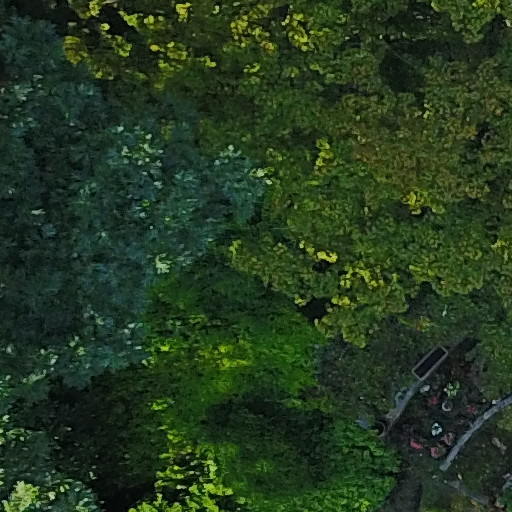flower pot: (440, 397, 454, 413)
pot: (369, 415, 394, 439)
